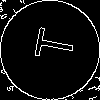T: (25, 25, 76, 63)
